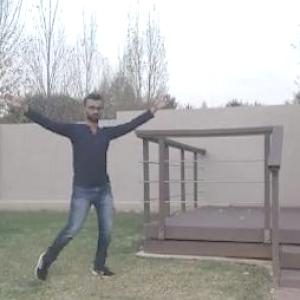takeoff: (0, 90, 154, 279)
